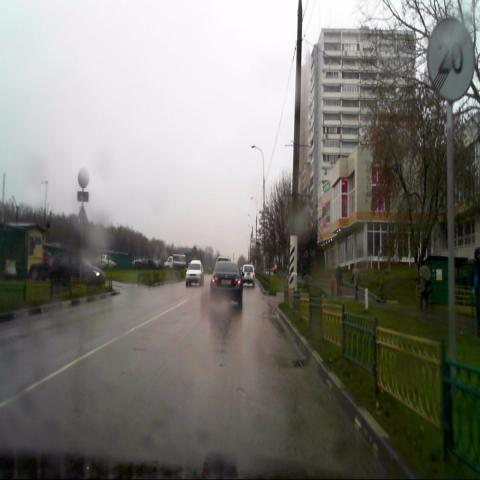3_25: (428, 18, 474, 101)
